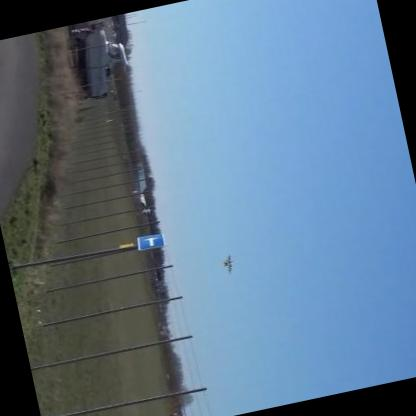plane: (218, 250, 240, 275)
